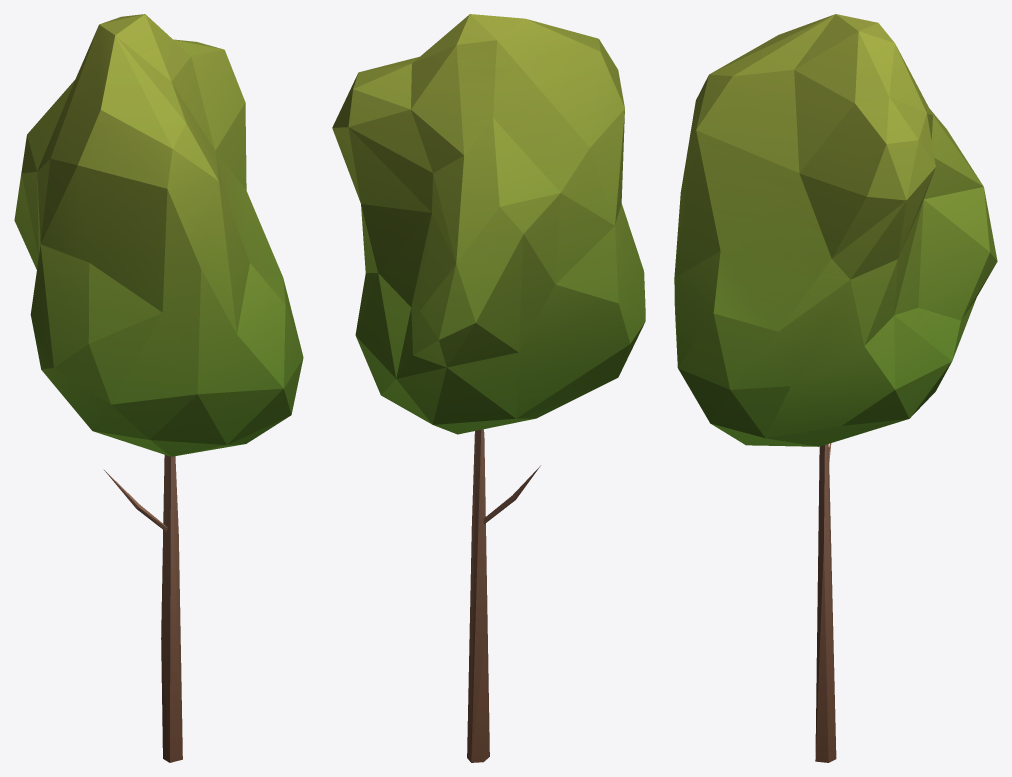
Rendered from Tree_02.fbx.
3 renders of one model, left to right at view 1: azimuth 30°, elevation 25°; view 2: azimuth 150°, elevation 25°; view 3: azimuth 270°, elevation 25°, orthographic. The views are drawn at different scales.
Parts seen in each view (by area): view 1: Tree_02; view 2: Tree_02; view 3: Tree_02.
Part boxes in pixels (x1=…): Tree_02: x1=14, y1=14, x2=303, y2=762; Tree_02: x1=332, y1=14, x2=645, y2=762; Tree_02: x1=674, y1=14, x2=997, y2=762.
Size of the model in its own units: 120 by 353 by 143.
